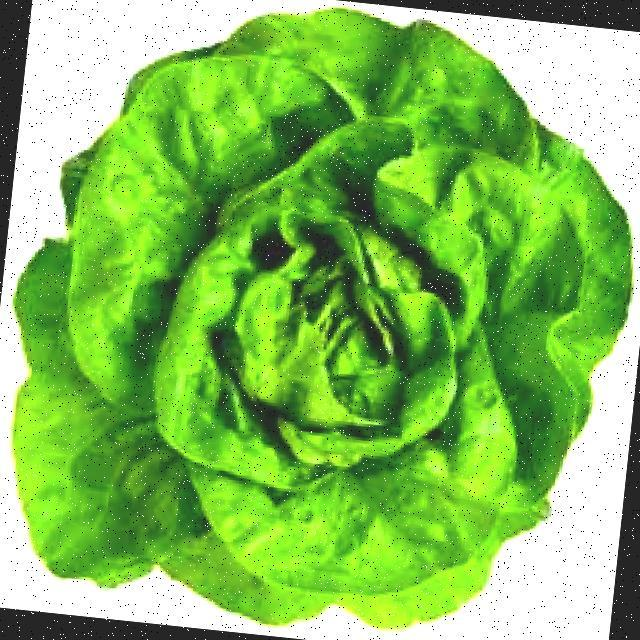healthy: (70, 51, 564, 610)
